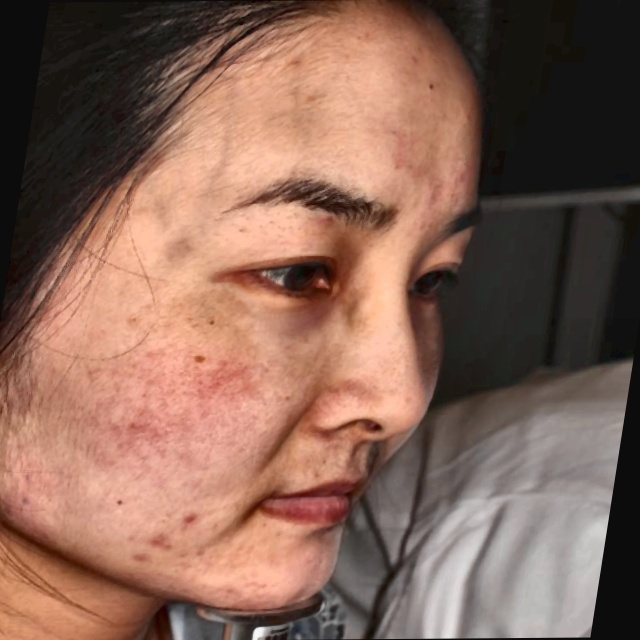comedone: (172, 508, 203, 532), (143, 537, 172, 554), (128, 552, 168, 563)
